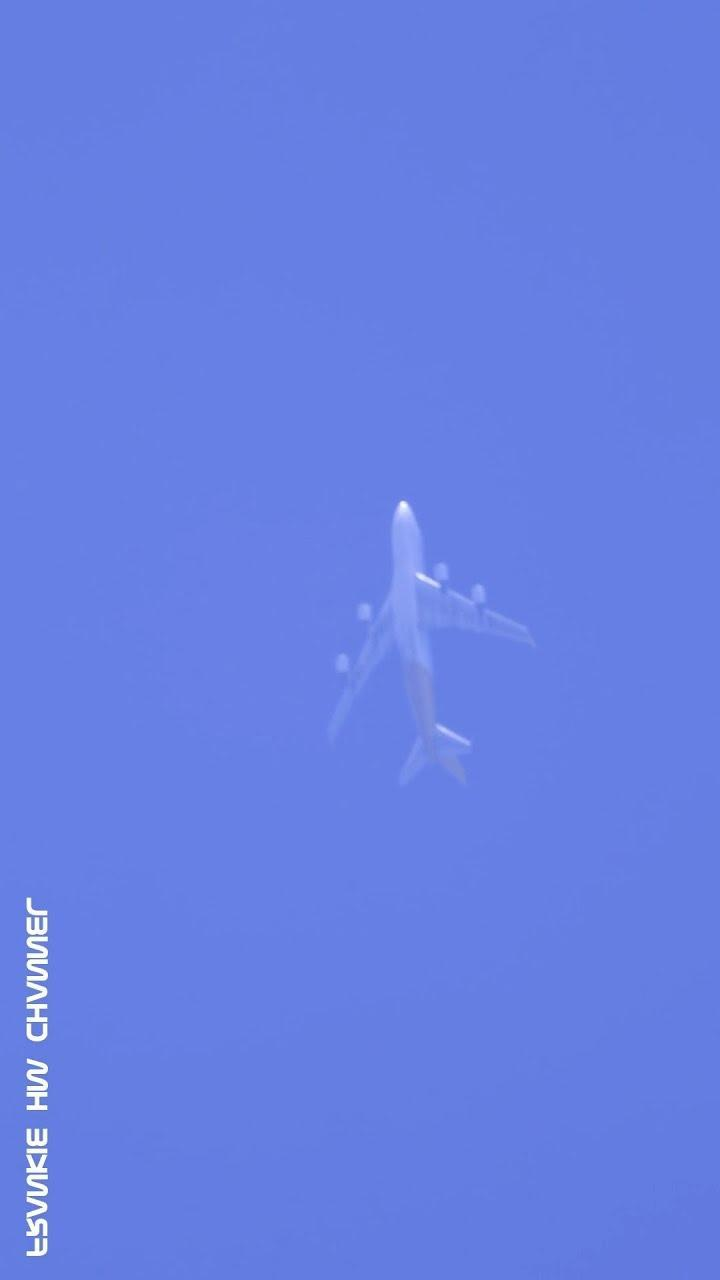Plane: (276, 447, 574, 860)
